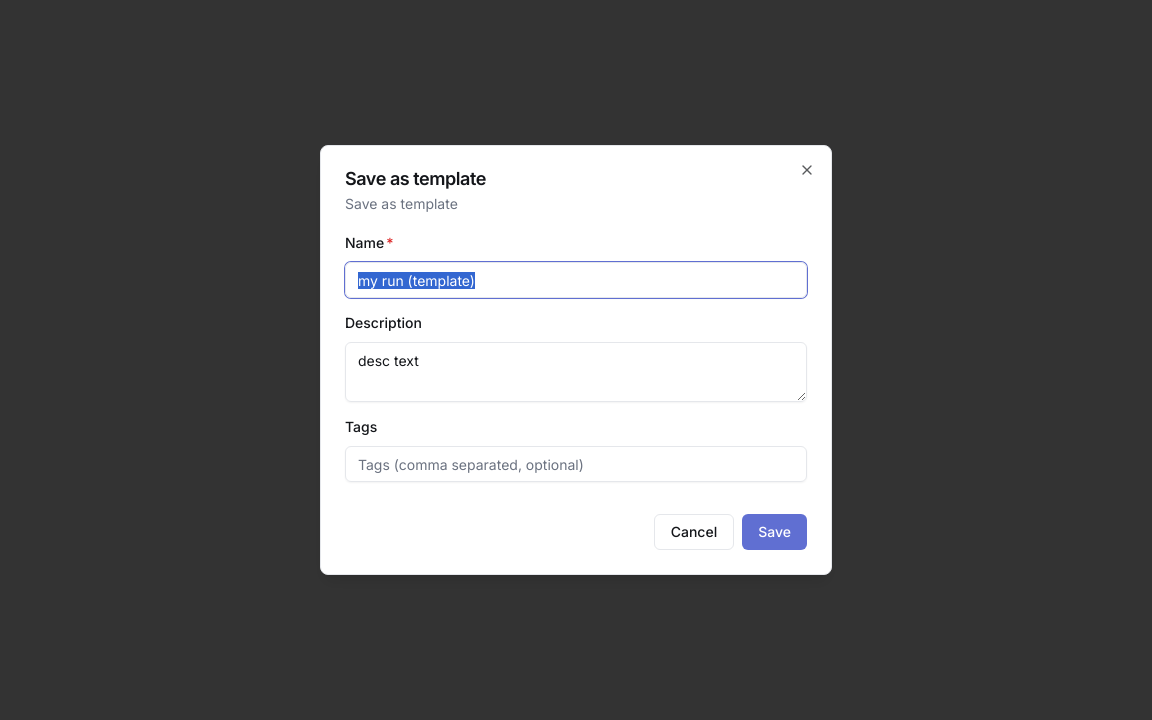
it: SaveAsTemplateDialog › shows inline error and keeps dialog open on mutation failure
Click the button "Save": coordinates (775, 532) [742,514,807,550]
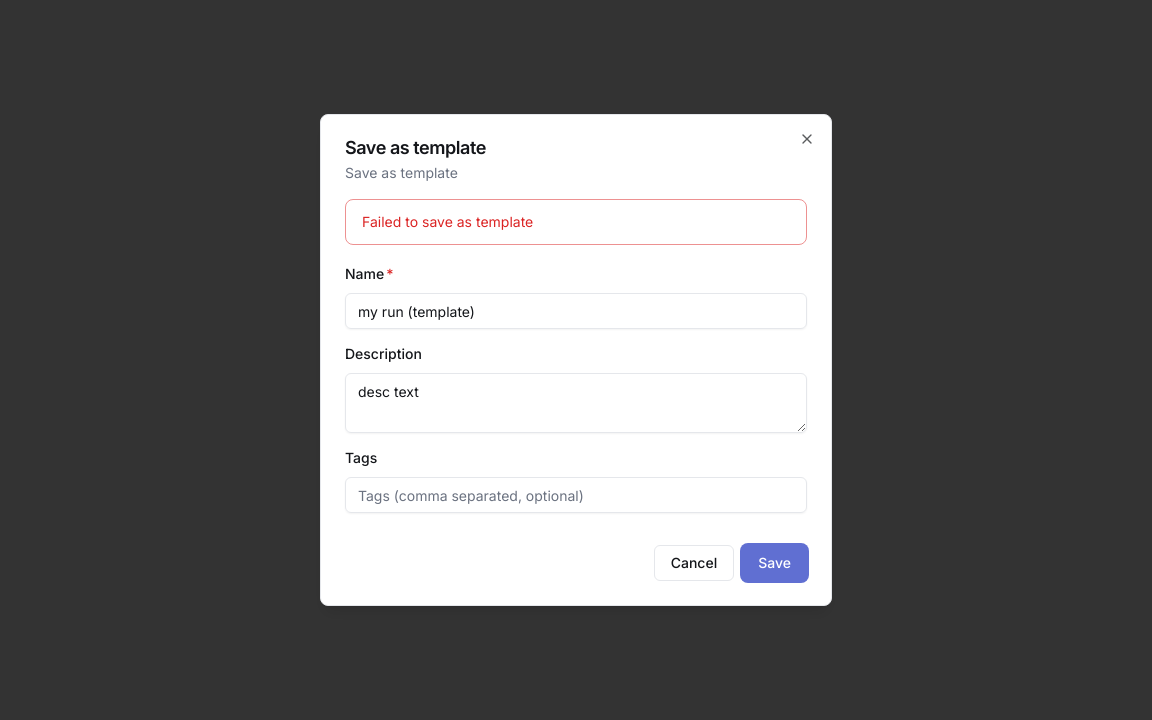
Expected: the message "Failed to save as template" is shown, [345,199,807,245]
Expected: the message reads "Failed to save as template", [362,213,533,230]
